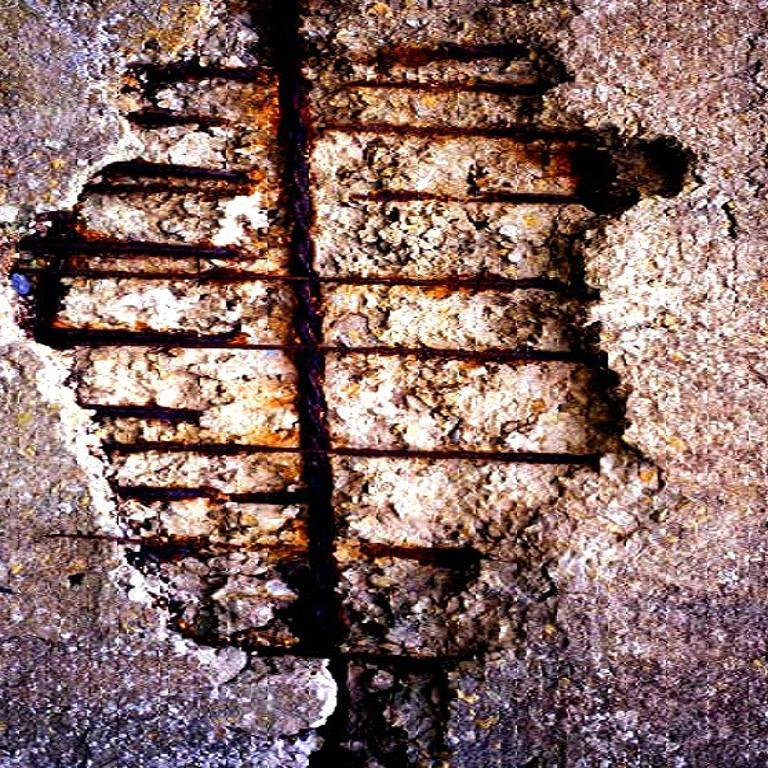exposed_rebar: (268, 0, 344, 671)
spalling: (14, 0, 682, 768)
